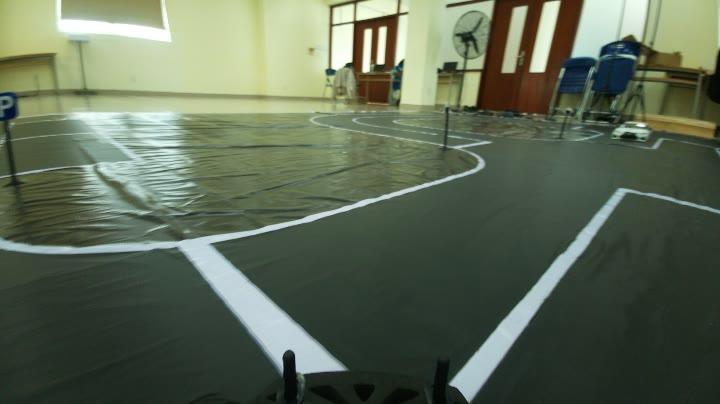parking: (1, 91, 20, 120)
